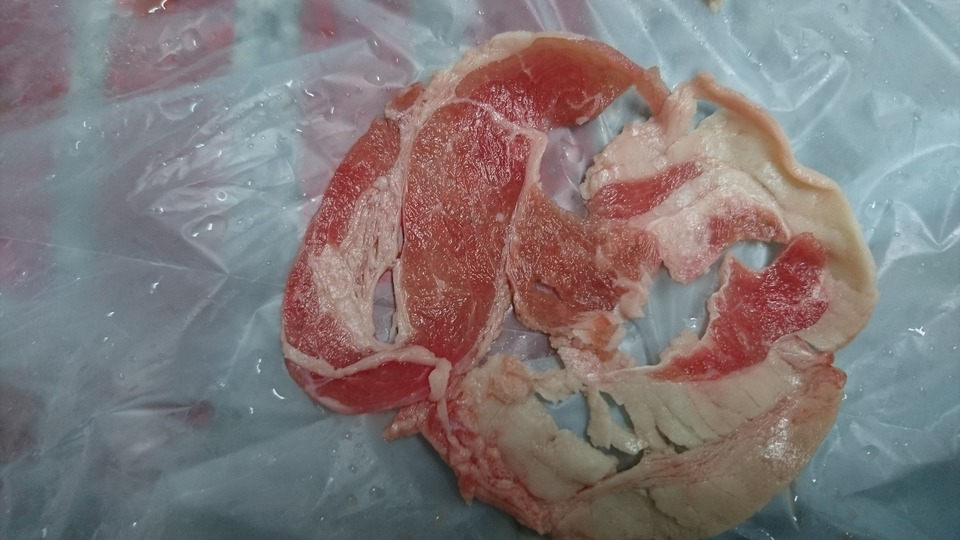restructured meat: (290, 30, 846, 540)
